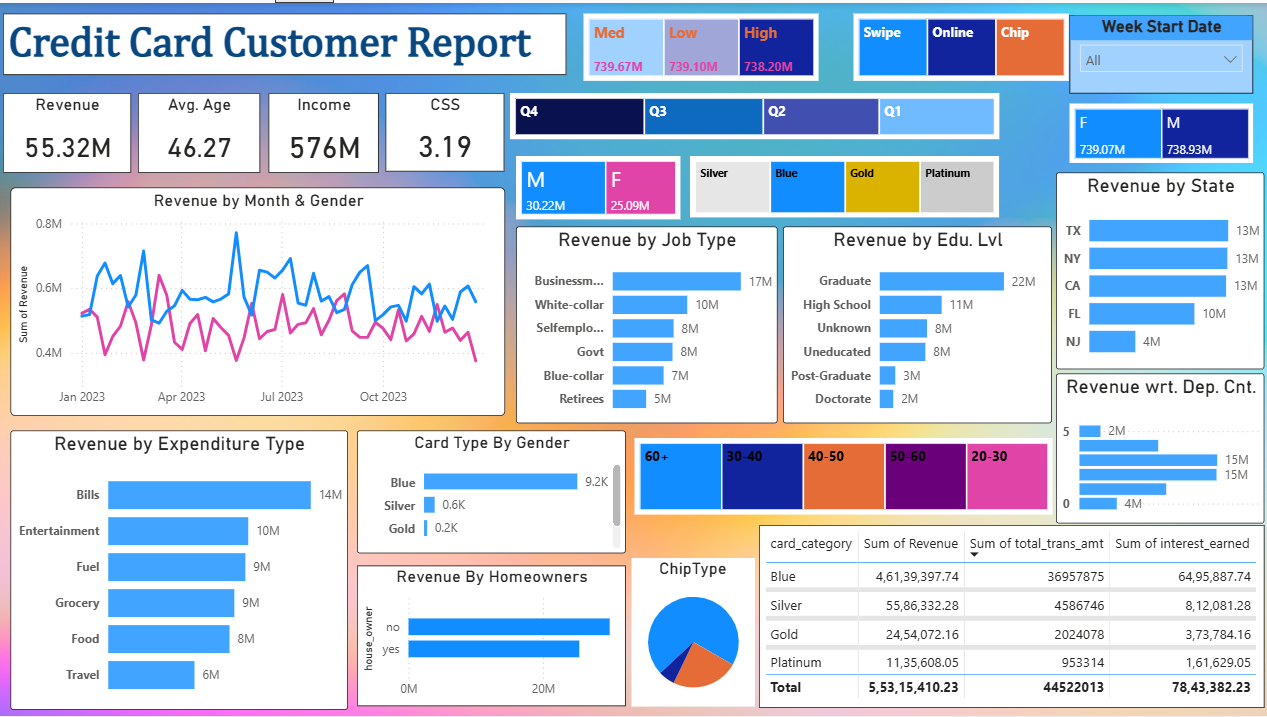

Layout of this report page (visuals, bound fields, positions):
{"tool":"powerbi","page":{"name":"CC Cust. ","canvas":[1280,720],"ordinal":1},"visuals":[{"type":"barChart","title":"Revenue by Edu. Lvl","fields":{"Y":["Sum(public cc_detail.Revenue)"],"Category":["public cust_detail.education_level"]},"box":[790.6,226.4,271.6,198.7],"z":0},{"type":"tableEx","fields":{"Values":["public cc_detail.card_category","Sum(public cc_detail.Revenue)","Sum(public cc_detail.total_trans_amt)","Sum(public cc_detail.interest_earned)"]},"box":[765.9,527.5,511.5,184.6],"z":1000},{"type":"cardVisual","title":"Revenue","fields":{"Data":["Sum(public cc_detail.Revenue)"]},"box":[3.4,91.4,129.1,80.5],"z":2000},{"type":"cardVisual","title":"Avg. Age","fields":{"Data":["Avg(public cust_detail.customer_age)"]},"box":[140,91.4,123.2,80.5],"z":3000},{"type":"cardVisual","title":"CSS","fields":{"Data":["Avg(public cust_detail.cust_satisfaction_score)"]},"box":[389.8,91.4,119.9,79],"z":4000},{"type":"cardVisual","title":"Income","fields":{"Data":["Sum(public cust_detail.income)"]},"box":[270.8,91.4,111.5,80.5],"z":5000},{"type":"slicer","title":"Week Start Date","fields":{"Values":["public cc_detail.week_start_date"]},"box":[1079,11.7,185.3,79.6],"z":6000},{"type":"treemap","fields":{"Values":["Avg(public cc_detail.client_num)"],"Group":["public cc_detail.qtr"]},"box":[514.8,91.4,493.8,46.9],"z":7000},{"type":"treemap","fields":{"Values":["Avg(public cc_detail.client_num)"],"Group":["public cust_detail.gender"]},"box":[1079.5,101.7,185.6,60.3],"z":8000},{"type":"treemap","fields":{"Values":["Avg(public cc_detail.client_num)"],"Group":["public cc_detail.card_category"]},"box":[696.1,154.5,311.8,62.2],"z":9000},{"type":"treemap","fields":{"Values":["Avg(public cc_detail.client_num)"],"Group":["public cust_detail.IncomeGroup"]},"box":[588.8,11.3,237.4,67.8],"z":10000},{"type":"textbox","box":[3.4,10.9,568.4,62],"z":11000},{"type":"lineChart","title":"Revenue by Month & Gender","fields":{"Series":["public cust_detail.gender"],"Y":["Sum(public cc_detail.Revenue)"],"Category":["public cc_detail.week_start_date.Variation.Date Hierarchy.Year","public cc_detail.week_start_date.Variation.Date Hierarchy.Quarter","public cc_detail.week_start_date.Variation.Date Hierarchy.Month","public cc_detail.week_start_date.Variation.Date Hierarchy.Day"]},"box":[10.1,186.1,499.7,230.5],"z":12000},{"type":"treemap","fields":{"Group":["public cust_detail.gender"],"Values":["Sum(public cc_detail.Revenue)"]},"box":[520.6,154.3,166,63.7],"z":13000},{"type":"barChart","title":"Revenue By Homeowners","fields":{"Category":["public cust_detail.house_owner"],"Y":["Sum(public cc_detail.Revenue)"]},"box":[360.5,568.4,271.6,141.7],"z":14000},{"type":"barChart","title":"Card Type By Gender","fields":{"Y":["CountNonNull(public cust_detail.gender)"],"Category":["public cc_detail.card_category"]},"box":[360.5,430.9,271.6,124.1],"z":15000},{"type":"barChart","title":"Revenue by Job Type","fields":{"Y":["Sum(public cc_detail.Revenue)"],"Category":["public cust_detail.customer_job"]},"box":[520.6,226.4,264.1,198.7],"z":16000},{"type":"barChart","title":"Revenue by Expenditure Type","fields":{"Y":["Sum(public cc_detail.Revenue)"],"Category":["public cc_detail.exp_type"]},"box":[10.1,430.9,340.4,281.7],"z":17000},{"type":"barChart","title":"Revenue by State","fields":{"Y":["Sum(public cc_detail.Revenue)"],"Category":["public cust_detail.state_cd"]},"box":[1065.4,171.4,211,198.8],"z":18000},{"type":"barChart","title":"Revenue wrt. Dep. Cnt.","fields":{"Y":["Sum(public cc_detail.Revenue)"],"Category":["public cust_detail.dependent_count"]},"box":[1066.4,374,211,151.7],"z":19000},{"type":"treemap","fields":{"Values":["Avg(public cc_detail.client_num)"],"Group":["public cust_detail.AgeGroup"]},"box":[640.6,439,422,77.2],"z":20000},{"type":"pieChart","title":"ChipType","fields":{"Category":["public cc_detail.use_chip"],"Y":["CountNonNull(public cc_detail.use_chip)"]},"box":[637.7,559.6,124.3,149.8],"z":21000},{"type":"treemap","fields":{"Values":["Avg(public cc_detail.client_num)"],"Group":["public cc_detail.use_chip"]},"box":[861,11.3,217.6,67.8],"z":22000}]}

Visuals, with their boxes in screenshot pixels (x1, y1, x2, y2), scaled from the page's 1280x720 canvas onto the 1267x717 screenshot:
"Revenue by Edu. Lvl" barChart: pyautogui.locateOnScreen(783, 225, 1051, 423)
tableEx - public cc_detail.card_category x Sum(public cc_detail.Revenue): pyautogui.locateOnScreen(758, 525, 1264, 709)
"Revenue" cardVisual: pyautogui.locateOnScreen(3, 91, 131, 171)
"Avg. Age" cardVisual: pyautogui.locateOnScreen(139, 91, 261, 171)
"CSS" cardVisual: pyautogui.locateOnScreen(386, 91, 505, 170)
"Income" cardVisual: pyautogui.locateOnScreen(268, 91, 378, 171)
"Week Start Date" slicer: pyautogui.locateOnScreen(1068, 12, 1251, 91)
treemap - Avg(public cc_detail.client_num) x public cc_detail.qtr: pyautogui.locateOnScreen(510, 91, 998, 138)
treemap - Avg(public cc_detail.client_num) x public cust_detail.gender: pyautogui.locateOnScreen(1069, 101, 1252, 161)
treemap - Avg(public cc_detail.client_num) x public cc_detail.card_category: pyautogui.locateOnScreen(689, 154, 998, 216)
treemap - Avg(public cc_detail.client_num) x public cust_detail.IncomeGroup: pyautogui.locateOnScreen(583, 11, 818, 79)
textbox: pyautogui.locateOnScreen(3, 11, 566, 73)
"Revenue by Month & Gender" lineChart: pyautogui.locateOnScreen(10, 185, 505, 415)
treemap - public cust_detail.gender x Sum(public cc_detail.Revenue): pyautogui.locateOnScreen(515, 154, 680, 217)
"Revenue By Homeowners" barChart: pyautogui.locateOnScreen(357, 566, 626, 707)
"Card Type By Gender" barChart: pyautogui.locateOnScreen(357, 429, 626, 553)
"Revenue by Job Type" barChart: pyautogui.locateOnScreen(515, 225, 777, 423)
"Revenue by Expenditure Type" barChart: pyautogui.locateOnScreen(10, 429, 347, 710)
"Revenue by State" barChart: pyautogui.locateOnScreen(1055, 171, 1263, 369)
"Revenue wrt. Dep. Cnt." barChart: pyautogui.locateOnScreen(1056, 372, 1264, 524)
treemap - Avg(public cc_detail.client_num) x public cust_detail.AgeGroup: pyautogui.locateOnScreen(634, 437, 1052, 514)
"ChipType" pieChart: pyautogui.locateOnScreen(631, 557, 754, 706)
treemap - Avg(public cc_detail.client_num) x public cc_detail.use_chip: pyautogui.locateOnScreen(852, 11, 1068, 79)
